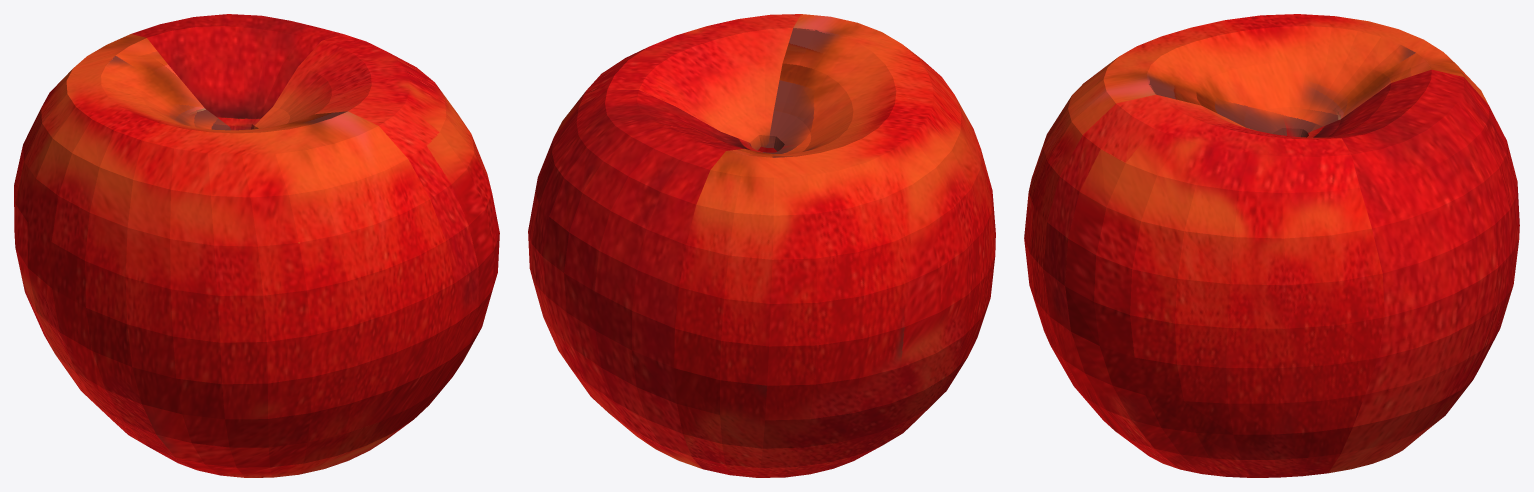
The model's file is manana.gltf.
The picture shows the model from 3 angles, left to right: view 1: azimuth 30°, elevation 25°; view 2: azimuth 150°, elevation 25°; view 3: azimuth 270°, elevation 25°; orthographic projection. The views are drawn at different scales.
Visible parts, largest first — view 1: Sphere_manzana.001_0; view 2: Sphere_manzana.001_0; view 3: Sphere_manzana.001_0.
Part boxes in pixels (x1,y1,x2,y2): Sphere_manzana.001_0: [14, 14, 499, 477]; Sphere_manzana.001_0: [528, 14, 995, 477]; Sphere_manzana.001_0: [1024, 14, 1519, 477].
Size of the model in its own units: 0.8036 by 0.6972 by 0.8386.
Materials: 1 (1 with a texture image).
